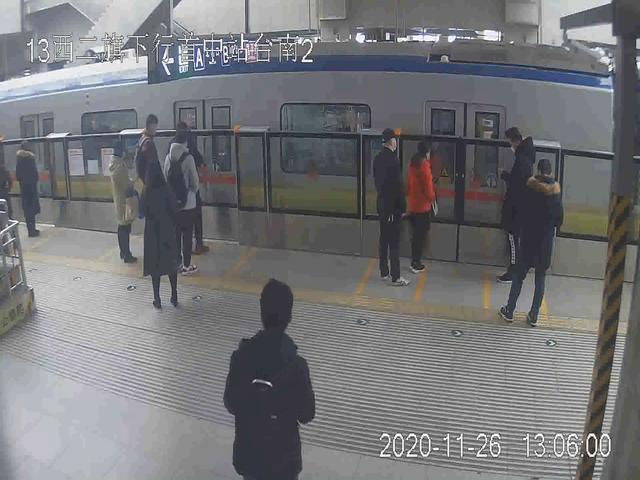person: (222, 279, 316, 480), (503, 157, 562, 325), (136, 158, 184, 307), (496, 124, 540, 278), (369, 128, 409, 285), (406, 137, 442, 275), (166, 136, 200, 278), (108, 140, 143, 264), (11, 140, 44, 240), (135, 113, 159, 246)
